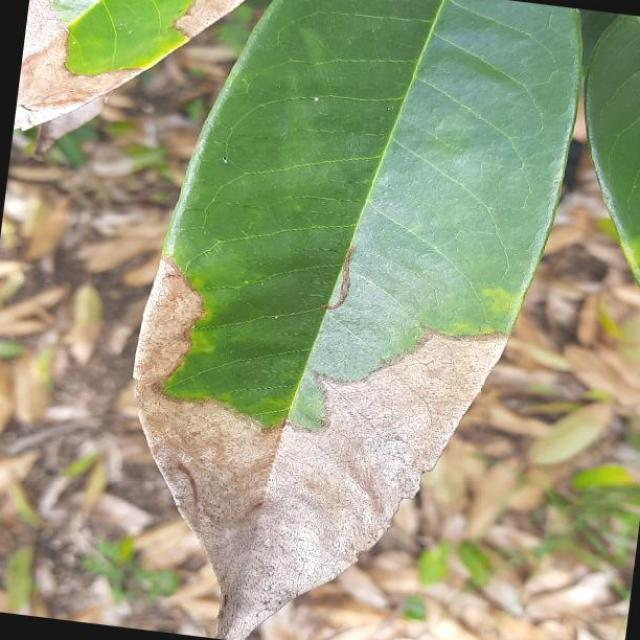Leaf Blight: (93, 0, 598, 640)
